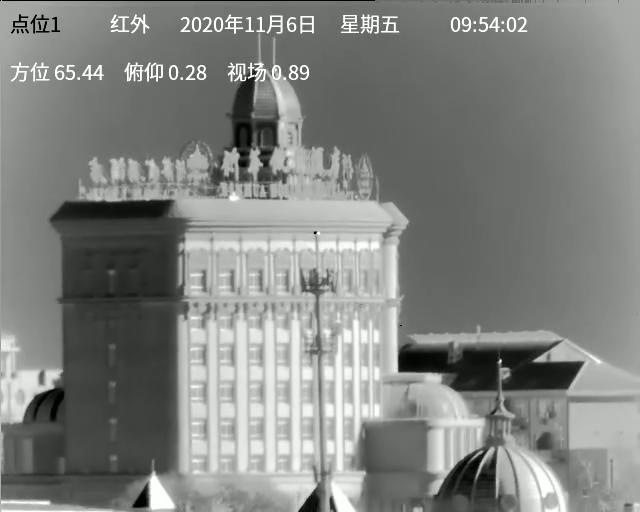uav: (359, 303, 367, 309)
